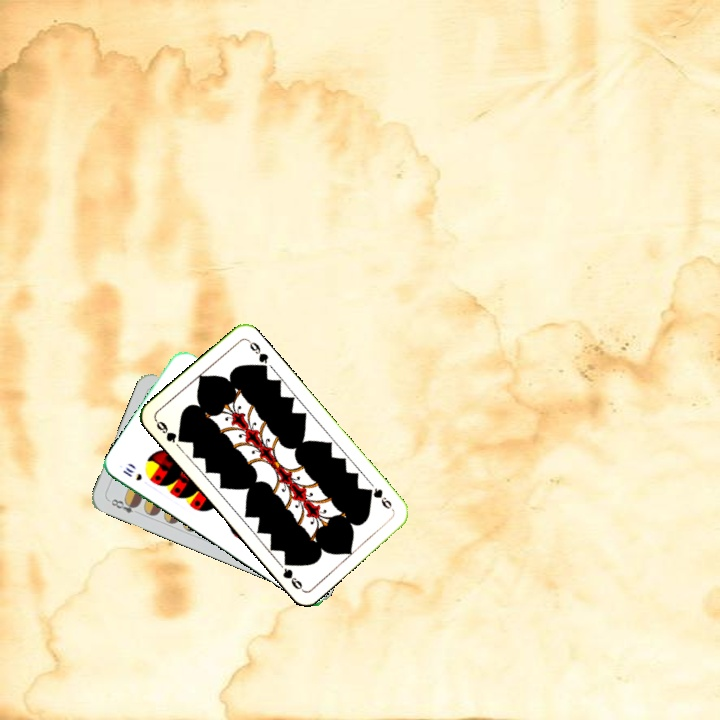E8: (105, 495, 143, 517)
G9: (151, 416, 187, 446), (363, 483, 394, 512)
S10: (119, 463, 145, 483)
